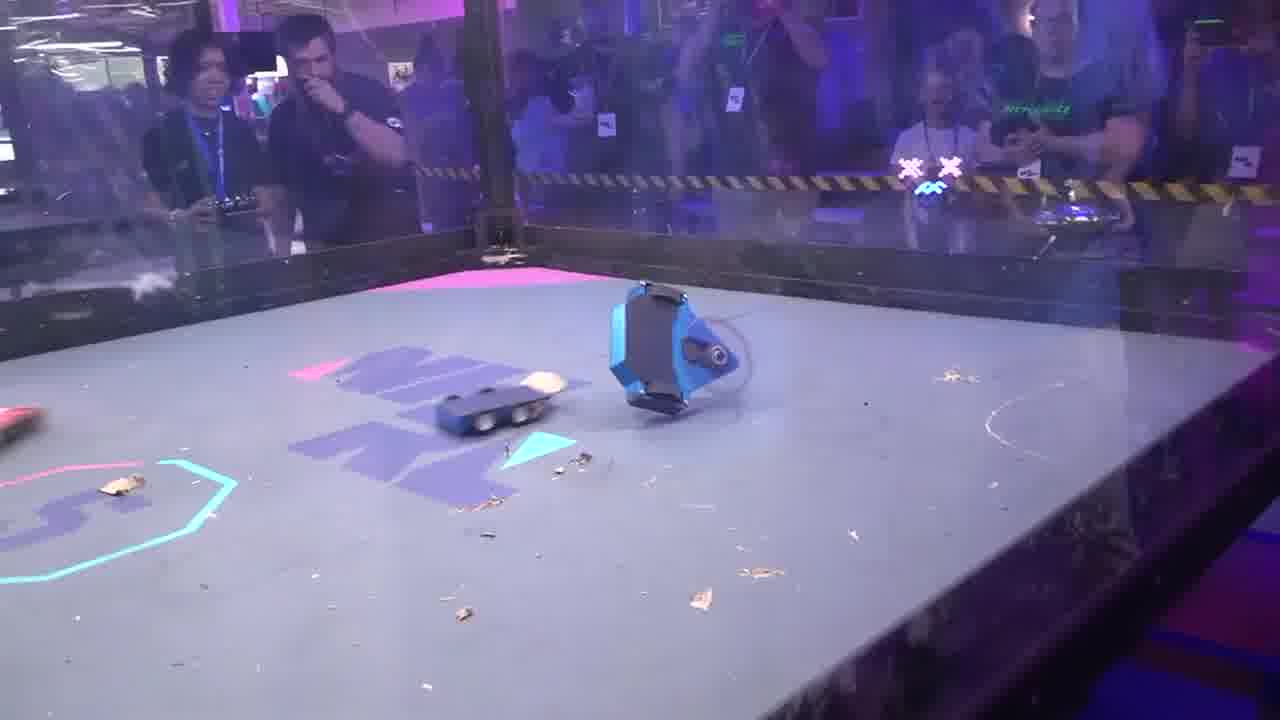combatbot: (610, 281, 754, 419), (436, 371, 566, 438), (0, 397, 46, 454)
debris: (97, 473, 148, 499)
